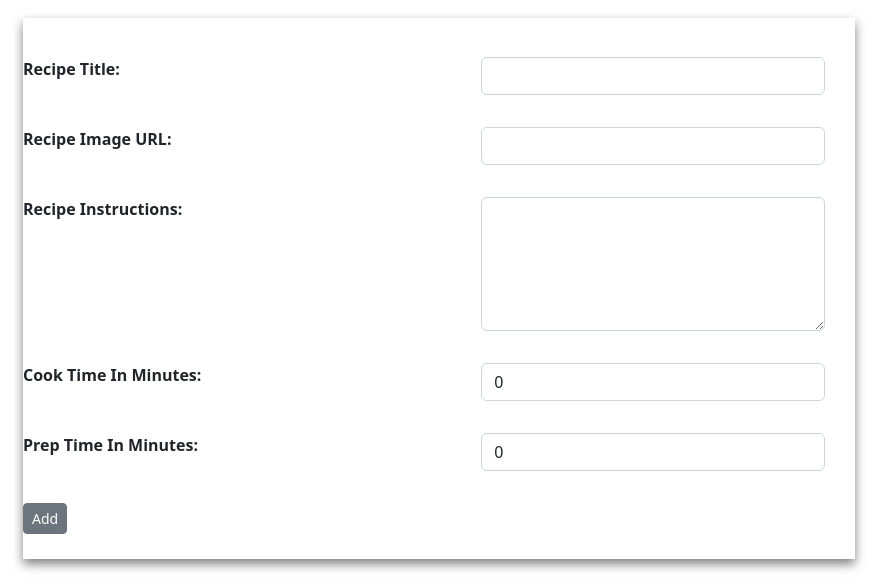
Test: new recipe form functionality › should clear prepTimeInMinutes input after button click
The image size is (879, 588).
Replace the text in the number field labelled "Prep Time In Minutes:" with "10": (653, 452) [481, 433, 825, 471]
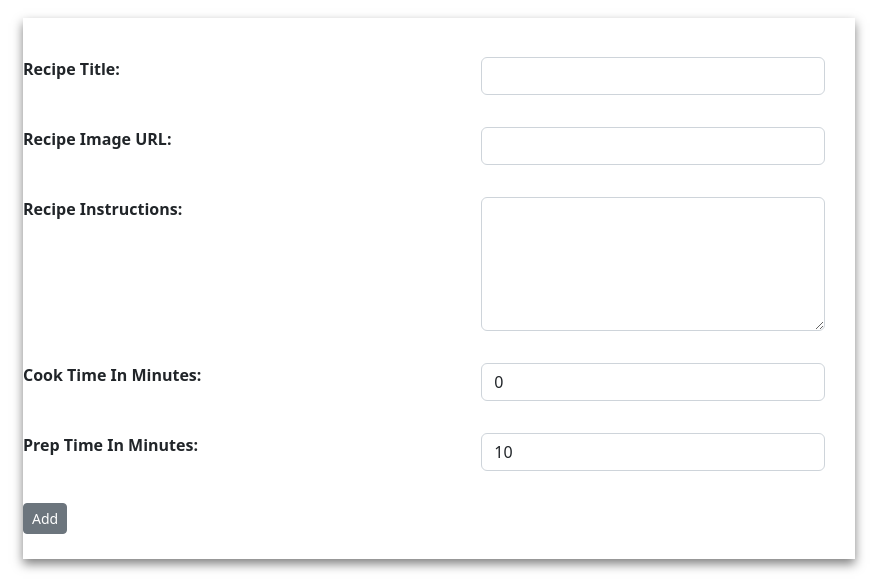
Click the button "Add": (45, 518) [23, 503, 67, 534]
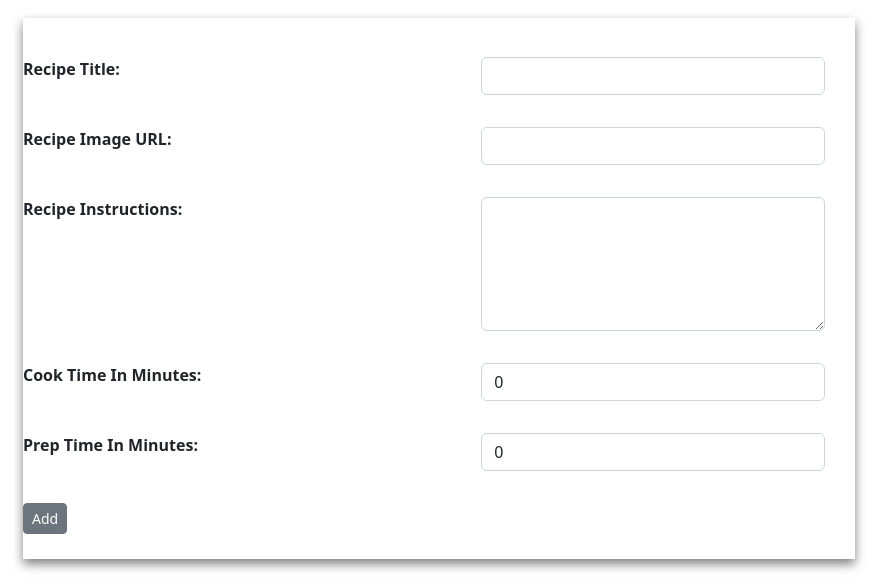
Now the number field labelled "Prep Time In Minutes:" holds "0", box [481, 433, 825, 471]
